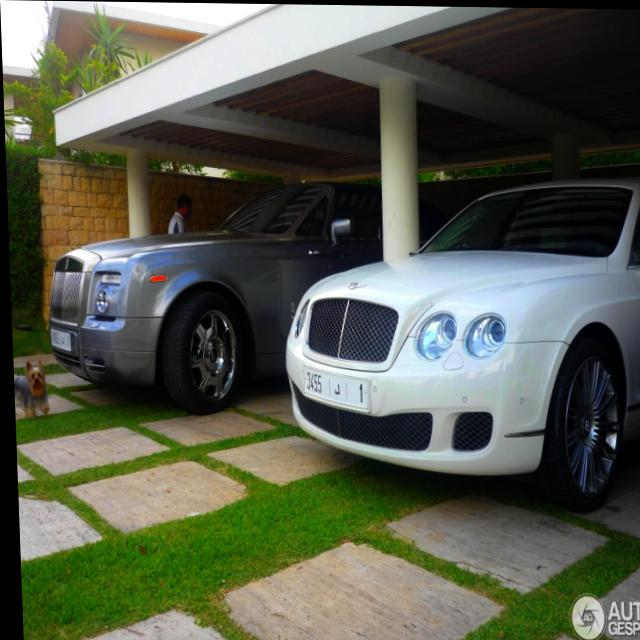License-Plate: (301, 368, 364, 408), (48, 329, 69, 351)
